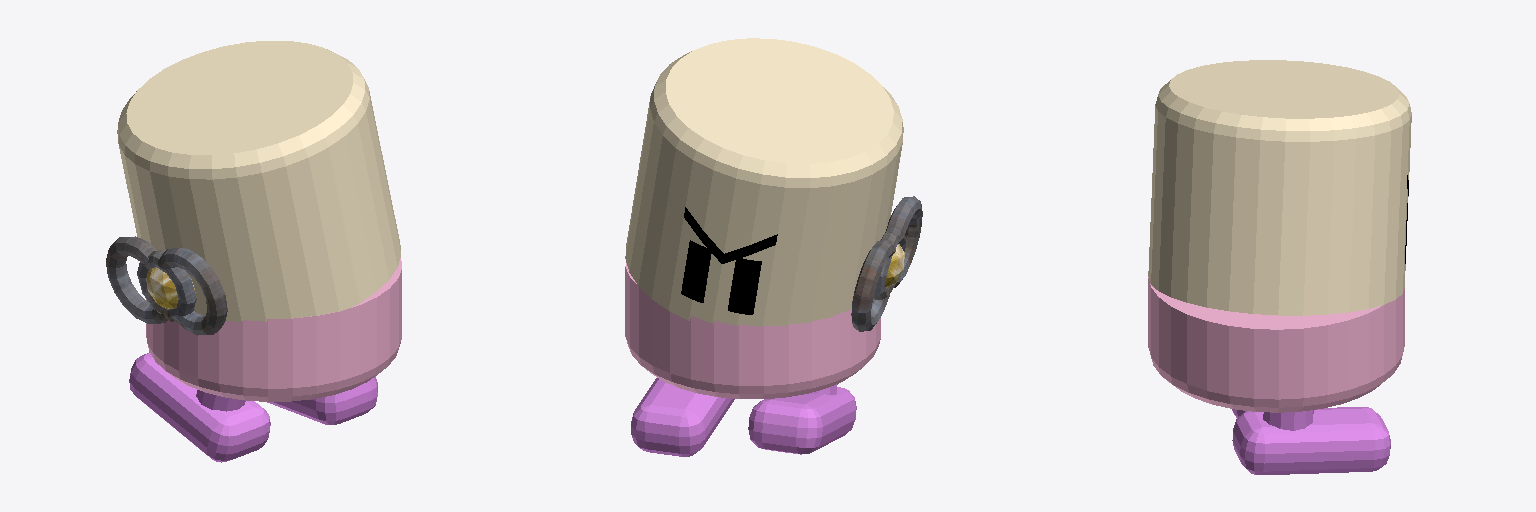
3 renders of one model, left to right at view 1: azimuth 30°, elevation 25°; view 2: azimuth 150°, elevation 25°; view 3: azimuth 270°, elevation 25°, orthographic.
Parts seen in each view (by area): view 1: Head, Jaw, WindupKey, LeftLeg, RightLeg; view 2: Head, Jaw, LeftLeg, RightLeg, WindupKey; view 3: Head, Jaw, RightLeg.
Part boxes in pixels (left/top/right/bottom): Head: left=117, top=41, right=400, bottom=322; Jaw: left=146, top=258, right=401, bottom=401; WindupKey: left=106, top=236, right=227, bottom=335; LeftLeg: left=129, top=352, right=270, bottom=462; RightLeg: left=267, top=376, right=377, bottom=424; Head: left=625, top=38, right=903, bottom=326; Jaw: left=625, top=263, right=880, bottom=398; LeftLeg: left=748, top=384, right=856, bottom=454; RightLeg: left=631, top=378, right=734, bottom=456; WindupKey: left=851, top=196, right=922, bottom=331; Head: left=1148, top=60, right=1411, bottom=315; Jaw: left=1148, top=277, right=1404, bottom=412; RightLeg: left=1232, top=407, right=1390, bottom=474.
Bounding box in the file's own units: 115 × 154 × 103.
Materials: 6 (2 with a texture image).